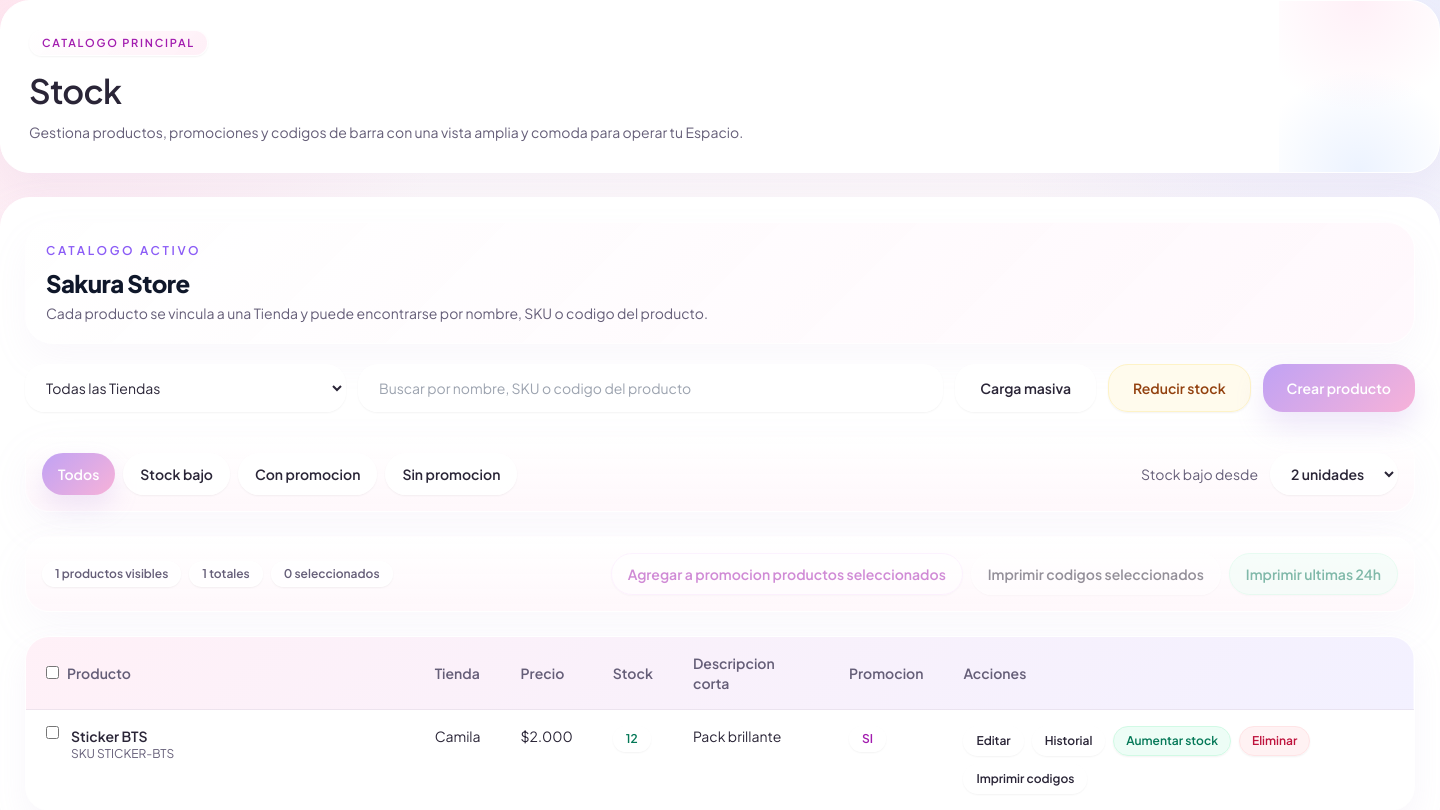
it: ProductsPage › opens barcode modal for selected products
The image size is (1440, 810).
Click the button "Imprimir codigos" at (1025, 779), box [963, 764, 1087, 794]
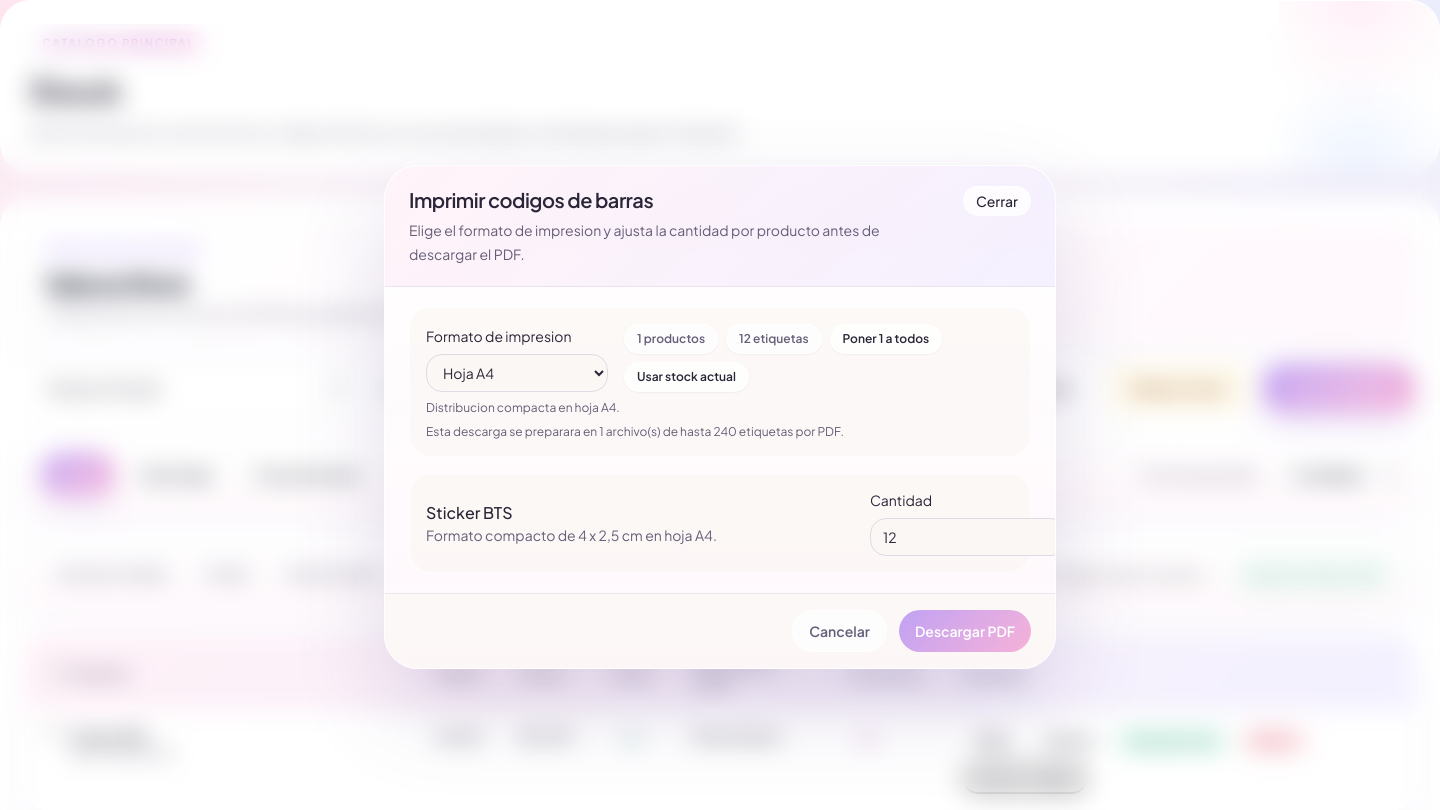
Check: the heading "Imprimir codigos de barras" is shown, box [409, 187, 653, 212]
Check: the number field showing "12" is shown, box [870, 518, 1055, 556]
Check: the dropdown labelled "Formato de impresion" shows "Hoja A4", box [426, 354, 608, 392]
